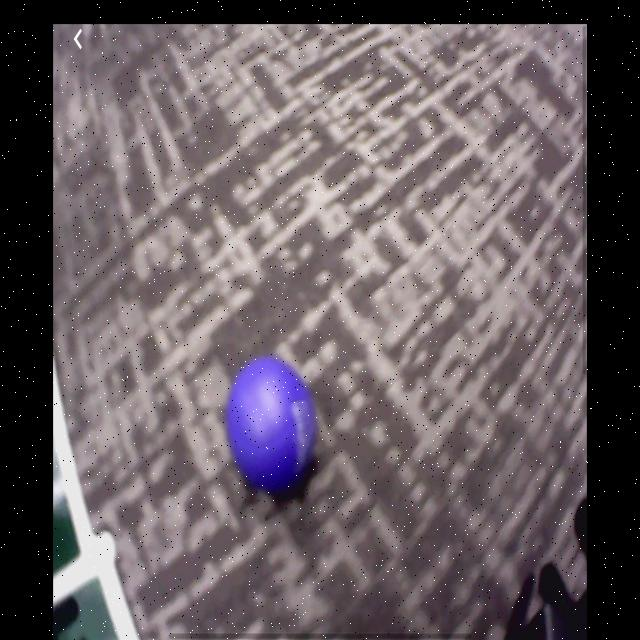ball: (227, 357, 318, 502)
